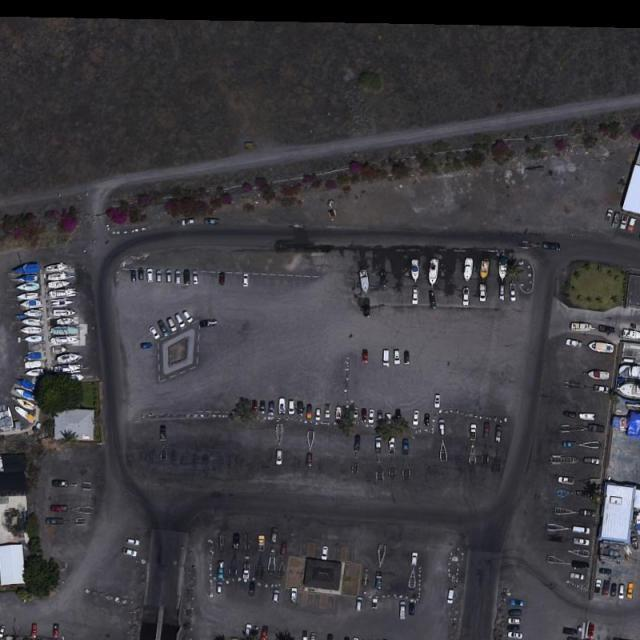vehicle: (183, 310, 195, 324), (572, 561, 590, 570), (462, 287, 470, 307), (150, 326, 162, 339), (590, 423, 605, 433), (594, 383, 609, 393), (570, 572, 586, 581), (580, 509, 596, 518), (470, 423, 478, 441), (159, 321, 170, 334), (495, 425, 503, 442), (362, 298, 370, 315), (243, 564, 251, 581), (586, 456, 601, 465), (600, 325, 615, 334), (507, 631, 522, 640), (621, 215, 630, 230), (429, 290, 436, 309), (175, 313, 185, 326), (374, 437, 382, 453), (278, 397, 286, 413), (168, 317, 177, 331), (510, 598, 525, 606), (544, 242, 559, 250), (51, 624, 59, 639), (383, 350, 390, 367), (258, 534, 265, 551), (628, 218, 637, 231), (627, 582, 634, 598), (558, 477, 574, 484), (499, 285, 506, 301), (52, 506, 68, 513), (306, 452, 314, 466), (389, 438, 396, 454), (124, 549, 138, 557), (438, 418, 445, 434), (567, 339, 582, 346), (306, 403, 313, 418), (30, 623, 37, 638), (574, 539, 589, 546), (251, 399, 258, 414), (563, 410, 576, 418), (613, 214, 621, 227), (146, 269, 154, 282), (218, 271, 226, 284), (394, 349, 400, 366), (510, 285, 516, 302), (564, 628, 578, 635), (595, 579, 602, 593), (184, 270, 191, 284), (259, 626, 266, 640), (480, 286, 486, 302), (47, 518, 63, 524), (200, 320, 216, 326), (242, 274, 250, 286), (182, 218, 194, 226), (159, 426, 166, 439), (354, 437, 361, 450), (335, 406, 342, 419), (127, 538, 140, 545), (280, 542, 287, 555), (588, 624, 594, 639), (413, 411, 419, 426), (269, 401, 275, 416), (298, 402, 304, 417), (321, 545, 327, 560), (376, 574, 382, 589), (575, 527, 590, 533), (484, 424, 490, 438), (53, 481, 67, 487), (166, 270, 173, 282), (411, 554, 418, 566), (403, 439, 409, 453), (274, 590, 281, 602), (291, 588, 297, 602), (356, 597, 362, 611), (260, 401, 266, 415), (413, 288, 418, 304), (401, 602, 406, 618), (604, 582, 610, 595), (370, 410, 376, 423), (448, 592, 454, 605), (315, 407, 321, 420), (206, 218, 219, 224), (564, 441, 575, 448), (606, 211, 613, 222), (277, 450, 282, 465), (234, 534, 239, 549), (598, 568, 610, 574), (424, 414, 430, 426), (140, 342, 152, 348), (156, 270, 162, 282), (217, 582, 223, 594), (435, 394, 440, 408), (410, 601, 415, 615), (289, 401, 294, 415), (1, 624, 6, 638), (386, 414, 392, 425), (620, 585, 625, 598), (405, 351, 410, 364), (175, 270, 180, 283), (245, 624, 250, 637), (363, 350, 368, 362), (511, 610, 521, 616), (218, 566, 223, 578), (272, 530, 277, 542), (302, 630, 308, 640), (326, 403, 330, 417), (509, 619, 520, 624), (508, 626, 519, 631), (194, 273, 199, 284), (354, 408, 359, 419), (373, 598, 378, 609), (138, 270, 144, 279), (612, 584, 616, 597), (132, 270, 136, 282), (362, 410, 366, 422), (250, 583, 254, 595), (397, 413, 401, 424), (378, 411, 382, 422), (327, 634, 332, 640), (568, 638, 580, 640), (312, 634, 316, 640), (346, 636, 350, 640), (353, 638, 358, 640)
